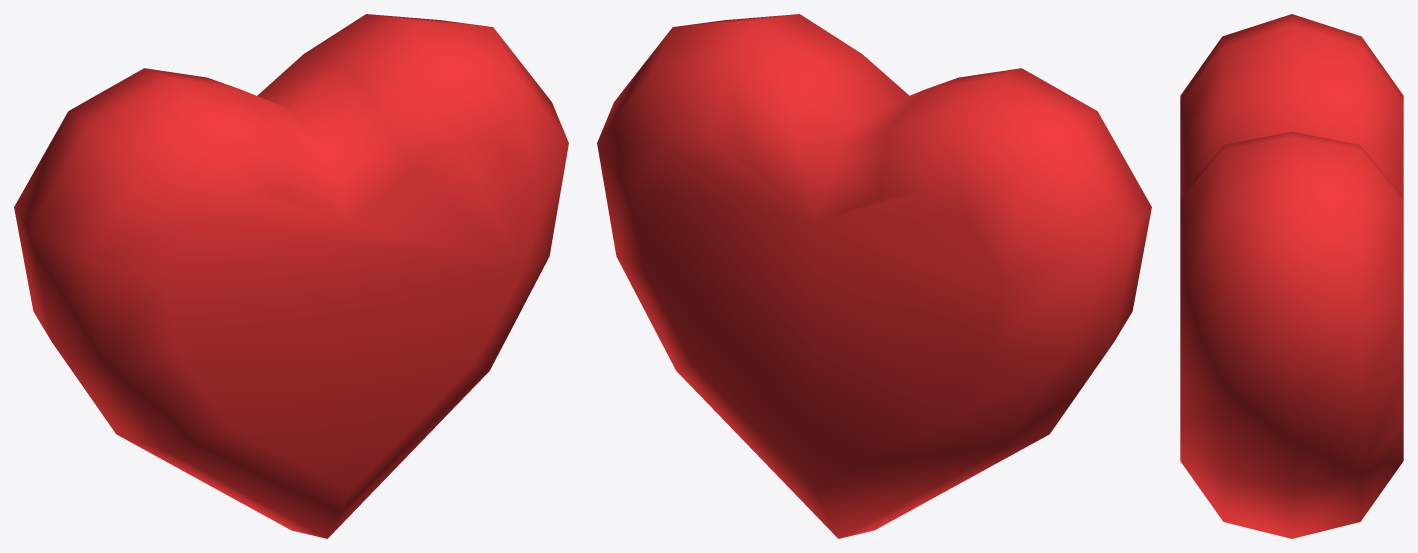
The model's file is healPowerup.fbx.
3 views of the same model, side by side, from view 1: azimuth 30°, elevation 25°; view 2: azimuth 150°, elevation 25°; view 3: azimuth 270°, elevation 25° (orthographic). The views are drawn at different scales.
Parts seen in each view (by area): view 1: heart; view 2: heart; view 3: heart.
Boxes of the visible parts, bbox=[...] form: heart: bbox=[14, 14, 568, 538]; heart: bbox=[597, 14, 1151, 538]; heart: bbox=[1180, 14, 1403, 538].
Size of the model in its own units: 100 by 88.18 by 39.08.
1 material, 1 textured.
